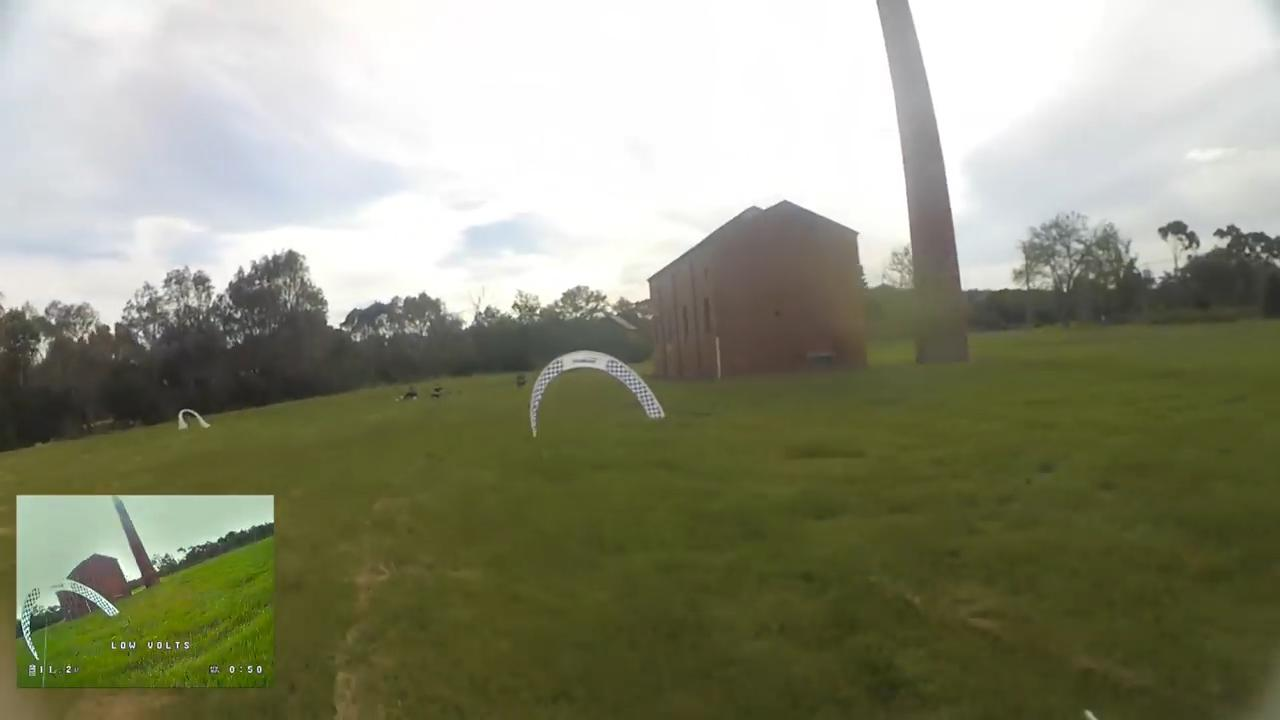gate: (523, 351, 669, 435)
